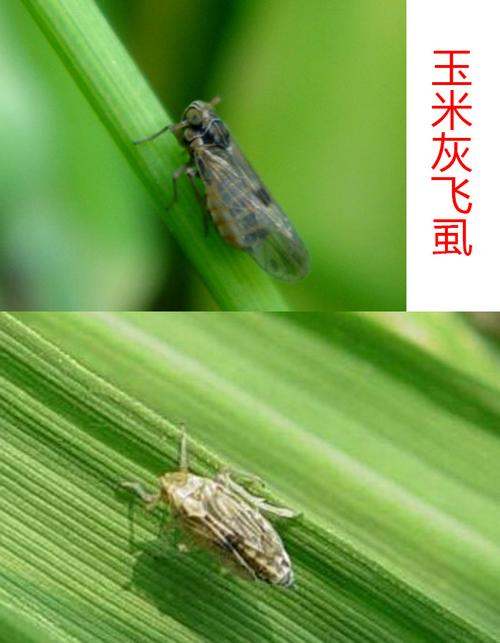Delphacidae: (132, 95, 309, 282), (111, 421, 304, 586)
